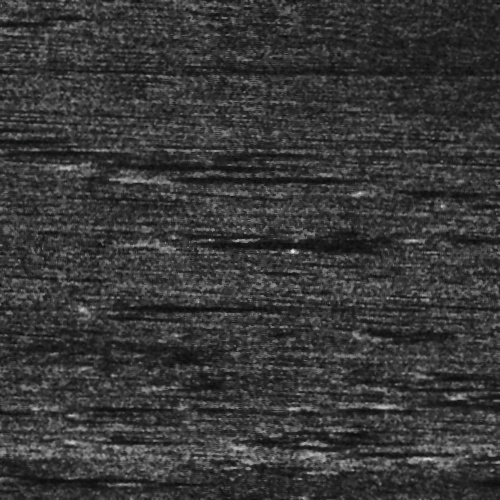object: (42, 154, 125, 173), (409, 449, 472, 462), (340, 399, 433, 406), (345, 187, 418, 194), (14, 402, 87, 407), (301, 449, 354, 454), (36, 497, 99, 500), (111, 480, 164, 483), (138, 240, 169, 243), (0, 475, 17, 480), (0, 145, 2, 152)
shadow: (84, 154, 251, 173), (133, 173, 345, 178), (0, 475, 179, 480), (382, 187, 500, 194), (387, 399, 500, 406), (440, 449, 500, 462), (154, 240, 364, 243), (0, 145, 76, 152), (327, 449, 418, 454), (51, 402, 131, 407), (0, 17, 54, 24), (68, 497, 150, 500), (0, 135, 42, 140), (0, 241, 27, 246), (138, 480, 180, 483)
